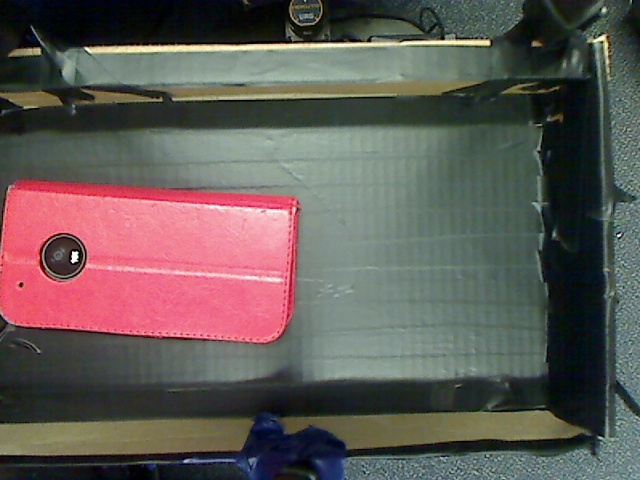phone: (1, 188, 318, 337)
